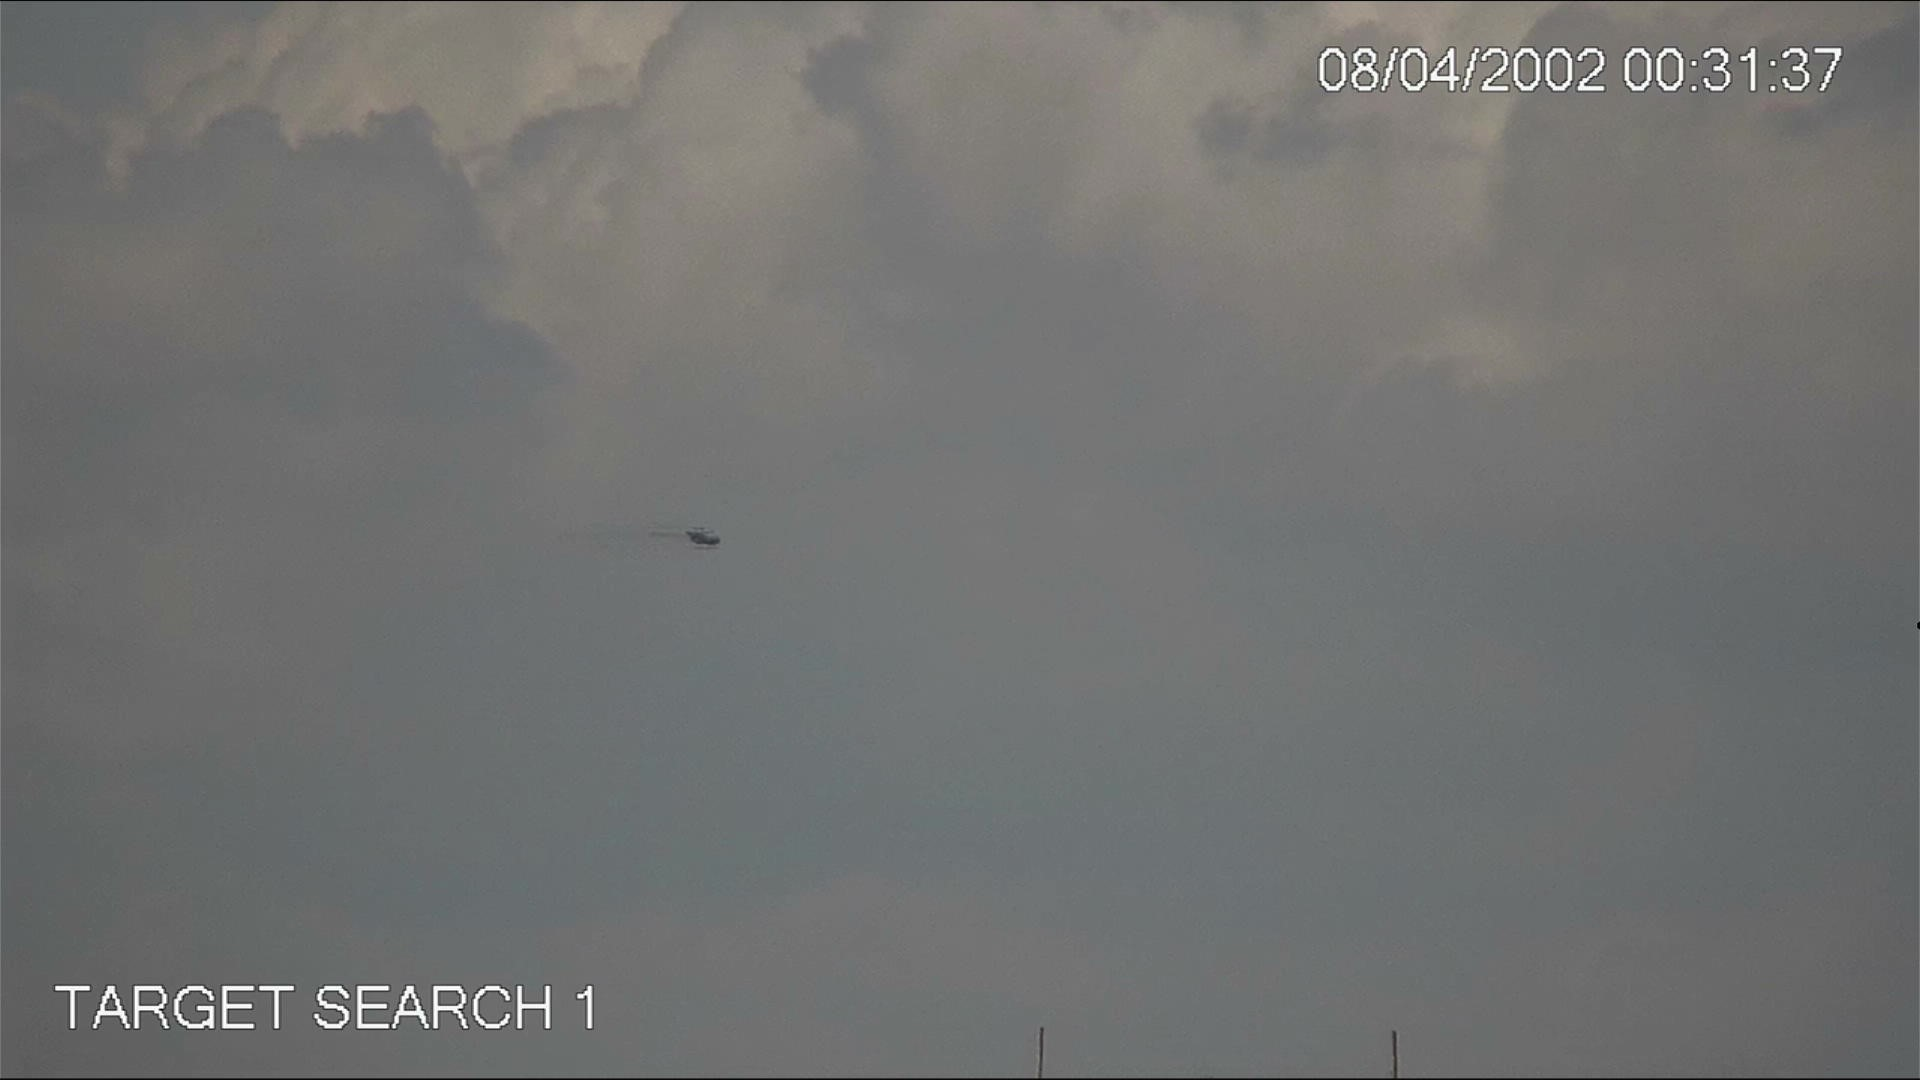SU_30: (644, 524, 727, 559)
